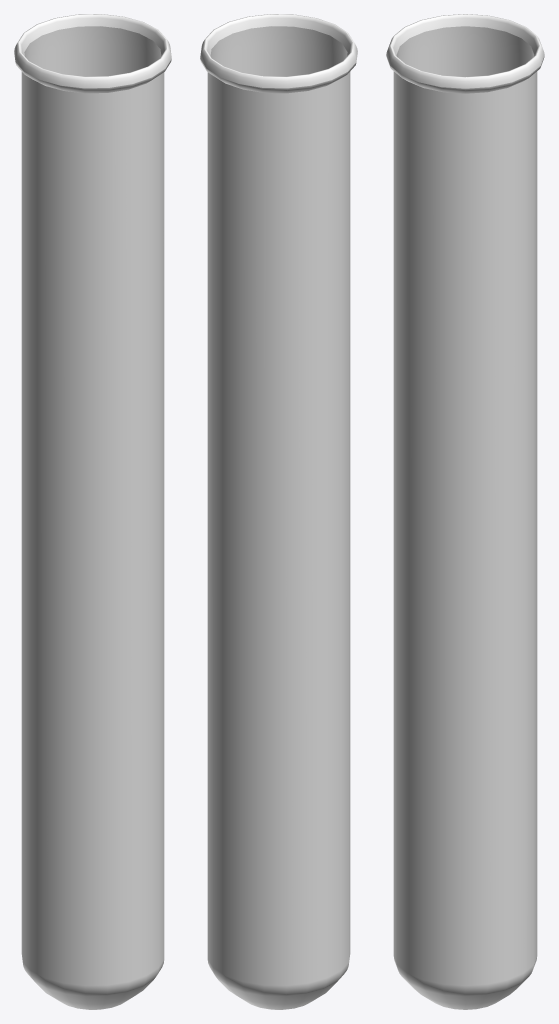
The model's file is Glass_Lab_test_tube.glb.
3 views of the same model, side by side, from view 1: azimuth 30°, elevation 25°; view 2: azimuth 150°, elevation 25°; view 3: azimuth 270°, elevation 25° (orthographic).
Visible parts, largest first — view 1: Glass_Lab_test_tube4; view 2: Glass_Lab_test_tube4; view 3: Glass_Lab_test_tube4.
Part boxes in pixels (x1,y1,x2,y2): Glass_Lab_test_tube4: (14, 14, 171, 1009); Glass_Lab_test_tube4: (200, 14, 357, 1009); Glass_Lab_test_tube4: (386, 14, 544, 1009).
Size of the model in its own units: 0.0366 by 0.2441 by 0.0366.
1 material, 1 textured.
